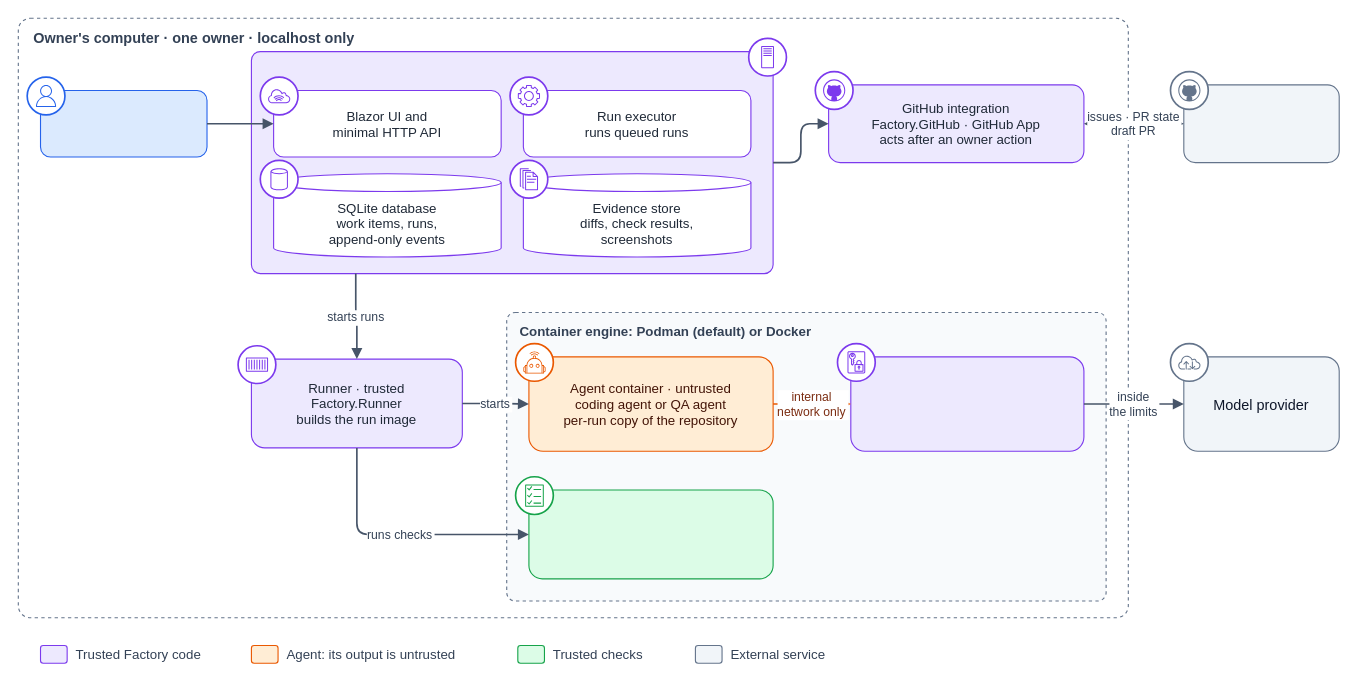
Image size: 1358x684. Some labels were removed from this diagram. Each missing label, with the box of its shape:
Control plane · Factory.ControlPlane · trusted: (250, 51, 773, 274)
GitHub: (1183, 84, 1339, 163)
Model gateway · trusted holds the provider key enforces limits · usage ledger: (850, 356, 1084, 451)
Owner in a browser: (39, 89, 207, 157)
Verification · trusted offline, fresh containers clean copy of the baseline: (528, 489, 773, 579)
